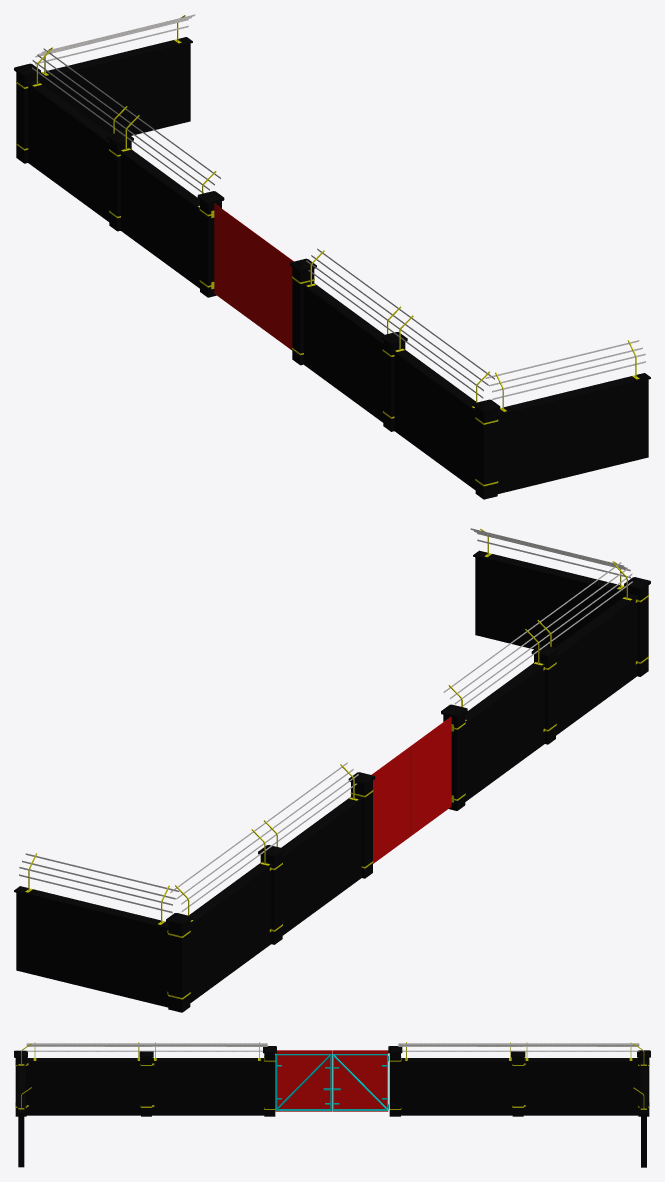
Rendered from Wall_Gate.fbx.
The picture shows the model from 3 angles, top to bottom: view 1: azimuth 30°, elevation 25°; view 2: azimuth 150°, elevation 25°; view 3: azimuth 270°, elevation 25°; orthographic projection. The views are drawn at different scales.
Visible parts, largest first — view 1: WallBGateShape; view 2: WallBGateShape; view 3: WallBGateShape.
Boxes of the visible parts, x1=… form: WallBGateShape: x1=14, y1=14, x2=650, y2=499; WallBGateShape: x1=14, y1=528, x2=650, y2=1012; WallBGateShape: x1=14, y1=1042, x2=650, y2=1167.
Size of the model in its own units: 6.69 by 4.21 by 31.72.
